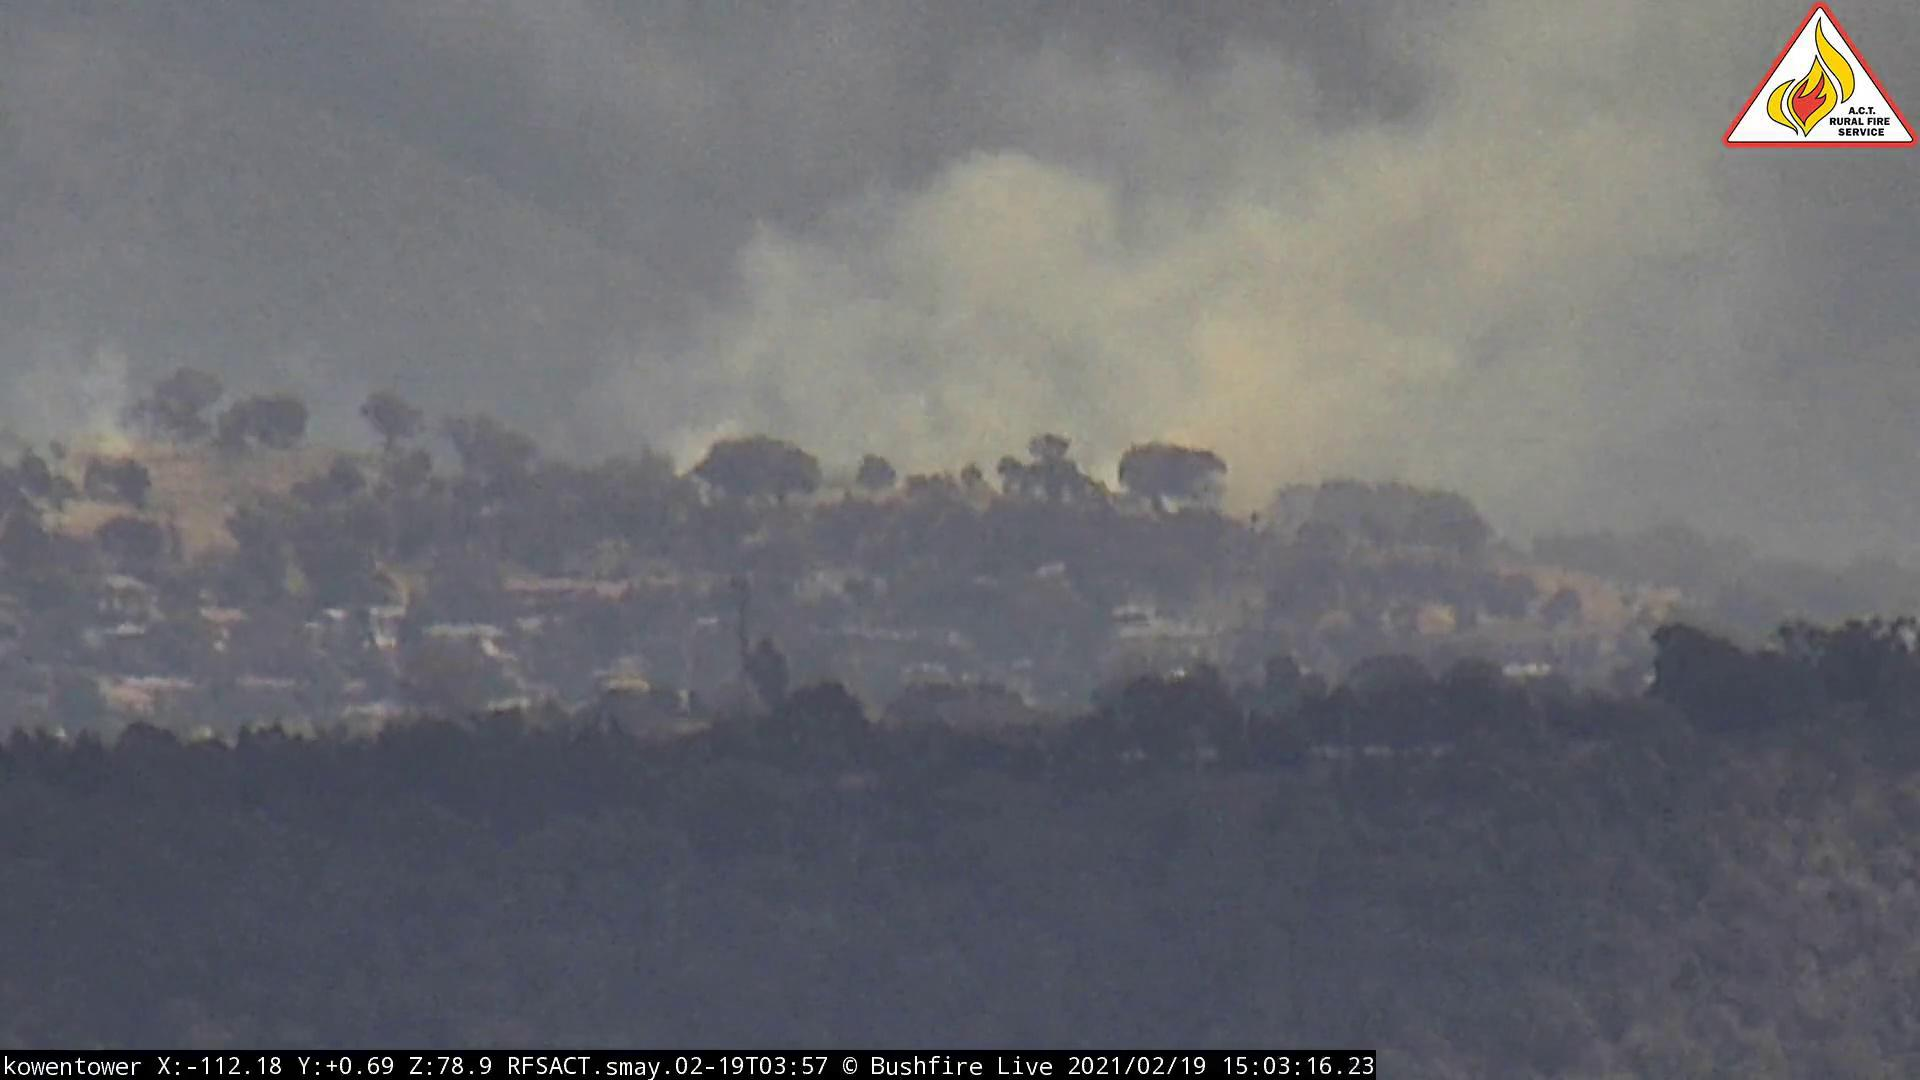Smoke: (509, 24, 1716, 512)
